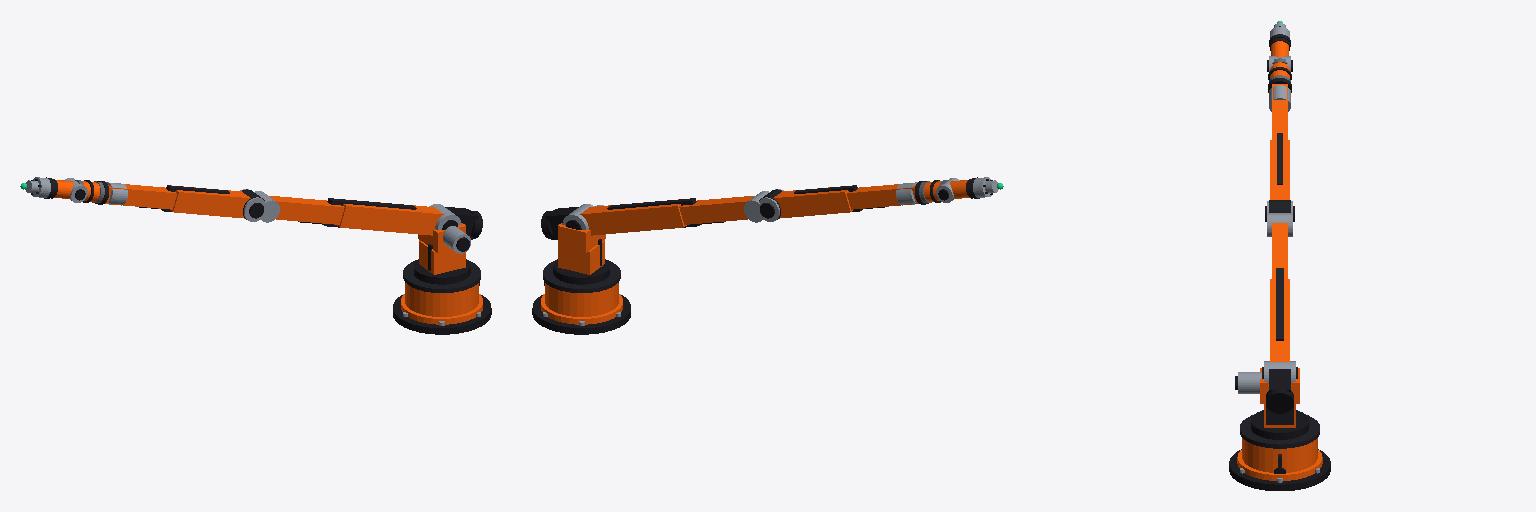
robot.urdf — kuka_kr210_r2700:
<?xml version="1.0" encoding="utf-8"?>
<robot name="kuka_kr210_r2700">
  <!-- KUKA KR 210 R2700-2 — procedurally generated by orolp.robot_library.urdf_builder (payload 210 kg, reach 2701 mm, 6 DOF, repeatability ±0.05 mm). Appearance: 60 primitives in 'industrial' style (primary/accent/metal/dark 4-role palette). No vendor CAD assets. Parameters verified=True. -->
  <link name="base_link">
    <visual>
      <origin xyz="0 0 0.019447" rpy="0 0 0"/>
      <geometry>
        <cylinder radius="0.264342" length="0.038894"/>
      </geometry>
      <material name="base_link_mat_0">
        <color rgba="0.136 0.136 0.1615 1"/>
      </material>
    </visual>
    <visual>
      <origin xyz="0 0 0.055911" rpy="0 0 0"/>
      <geometry>
        <cylinder radius="0.220942" length="0.034033"/>
      </geometry>
      <material name="base_link_mat_1">
        <color rgba="1 0.416 0.075 1"/>
      </material>
    </visual>
    <visual>
      <origin xyz="0 0 0.148285" rpy="0 0 0"/>
      <geometry>
        <cylinder radius="0.19727" length="0.150716"/>
      </geometry>
      <material name="base_link_mat_2">
        <color rgba="1 0.416 0.075 1"/>
      </material>
    </visual>
    <visual>
      <origin xyz="0 0 0.230935" rpy="0 0 0"/>
      <geometry>
        <cylinder radius="0.209106" length="0.024309"/>
      </geometry>
      <material name="base_link_mat_3">
        <color rgba="0.16 0.16 0.19 1"/>
      </material>
    </visual>
    <visual>
      <origin xyz="0.177543 0 0.150716" rpy="0 0 0"/>
      <geometry>
        <box size="0.10258 0.023672 0.063203"/>
      </geometry>
      <material name="base_link_mat_4">
        <color rgba="0.16 0.16 0.19 1"/>
      </material>
    </visual>
    <visual>
      <origin xyz="0.181488 0 0.072927" rpy="0 1.570796 0"/>
      <geometry>
        <cylinder radius="0.033536" length="0.059181"/>
      </geometry>
      <material name="base_link_mat_5">
        <color rgba="0.136 0.136 0.1615 1"/>
      </material>
    </visual>
    <visual>
      <origin xyz="0.224888 0 0.031602" rpy="0 0 0"/>
      <geometry>
        <cylinder radius="0.014795" length="0.05348"/>
      </geometry>
      <material name="base_link_mat_6">
        <color rgba="0.6 0.63 0.67 1"/>
      </material>
    </visual>
    <visual>
      <origin xyz="0.112444 0.194759 0.031602" rpy="0 0 0"/>
      <geometry>
        <cylinder radius="0.014795" length="0.05348"/>
      </geometry>
      <material name="base_link_mat_7">
        <color rgba="0.6 0.63 0.67 1"/>
      </material>
    </visual>
    <visual>
      <origin xyz="-0.112444 0.194759 0.031602" rpy="0 0 0"/>
      <geometry>
        <cylinder radius="0.014795" length="0.05348"/>
      </geometry>
      <material name="base_link_mat_8">
        <color rgba="0.6 0.63 0.67 1"/>
      </material>
    </visual>
    <visual>
      <origin xyz="-0.224888 0 0.031602" rpy="0 0 0"/>
      <geometry>
        <cylinder radius="0.014795" length="0.05348"/>
      </geometry>
      <material name="base_link_mat_9">
        <color rgba="0.6 0.63 0.67 1"/>
      </material>
    </visual>
    <visual>
      <origin xyz="-0.112444 -0.194759 0.031602" rpy="0 0 0"/>
      <geometry>
        <cylinder radius="0.014795" length="0.05348"/>
      </geometry>
      <material name="base_link_mat_10">
        <color rgba="0.6 0.63 0.67 1"/>
      </material>
    </visual>
    <visual>
      <origin xyz="0.112444 -0.194759 0.031602" rpy="0 0 0"/>
      <geometry>
        <cylinder radius="0.014795" length="0.05348"/>
      </geometry>
      <material name="base_link_mat_11">
        <color rgba="0.6 0.63 0.67 1"/>
      </material>
    </visual>
    <collision>
      <origin xyz="0 0 0.121545" rpy="0 0 0"/>
      <geometry>
        <cylinder radius="0.19727" length="0.24309"/>
      </geometry>
    </collision>
  </link>
  <joint name="joint_1" type="revolute">
    <parent link="base_link"/>
    <child link="link_1"/>
    <origin xyz="0 0 0.24309" rpy="0 0 0"/>
    <axis xyz="0 0 1"/>
    <limit lower="-3.228859" upper="3.228859" effort="1300" velocity="2.094395"/>
  </joint>
  <link name="link_1">
    <visual>
      <origin xyz="0 0 0.020363" rpy="0 0 0"/>
      <geometry>
        <cylinder radius="0.152725" length="0.040727"/>
      </geometry>
      <material name="link_1_mat_0">
        <color rgba="0.136 0.136 0.1615 1"/>
      </material>
    </visual>
    <visual>
      <origin xyz="0 0 0.109062" rpy="0 0 0"/>
      <geometry>
        <box size="0.193452 0.165452 0.136671"/>
      </geometry>
      <material name="link_1_mat_1">
        <color rgba="1 0.416 0.075 1"/>
      </material>
    </visual>
    <visual>
      <origin xyz="0 0 0.227906" rpy="0 0 0"/>
      <geometry>
        <box size="0.170543 0.142544 0.101017"/>
      </geometry>
      <material name="link_1_mat_2">
        <color rgba="1 0.416 0.075 1"/>
      </material>
    </visual>
    <visual>
      <origin xyz="0 0.083999 0.237688" rpy="0 0 0"/>
      <geometry>
        <box size="0.178179 0.043272 0.118844"/>
      </geometry>
      <material name="link_1_mat_3">
        <color rgba="1 0.416 0.075 1"/>
      </material>
    </visual>
    <visual>
      <origin xyz="0 -0.083999 0.237688" rpy="0 0 0"/>
      <geometry>
        <box size="0.178179 0.043272 0.118844"/>
      </geometry>
      <material name="link_1_mat_4">
        <color rgba="1 0.416 0.075 1"/>
      </material>
    </visual>
    <visual>
      <origin xyz="0 -0.15018 0.255515" rpy="1.570796 0 0"/>
      <geometry>
        <cylinder radius="0.055999" length="0.133635"/>
      </geometry>
      <material name="link_1_mat_5">
        <color rgba="0.6 0.63 0.67 1"/>
      </material>
    </visual>
    <visual>
      <origin xyz="0 -0.223997 0.255515" rpy="1.570796 0 0"/>
      <geometry>
        <cylinder radius="0.038181" length="0.020363"/>
      </geometry>
      <material name="link_1_mat_6">
        <color rgba="0.136 0.136 0.1615 1"/>
      </material>
    </visual>
    <visual>
      <origin xyz="-0.08909 -0.035636 0.124786" rpy="0 0 0"/>
      <geometry>
        <cylinder radius="0.014" length="0.148555"/>
      </geometry>
      <material name="link_1_mat_7">
        <color rgba="0.136 0.136 0.1615 1"/>
      </material>
    </visual>
    <visual>
      <origin xyz="0.091635 0 0.124786" rpy="0 0 0"/>
      <geometry>
        <box size="0.012727 0.147634 0.130728"/>
      </geometry>
      <material name="link_1_mat_8">
        <color rgba="0.16 0.16 0.19 1"/>
      </material>
    </visual>
    <collision>
      <origin xyz="0 0 0.148555" rpy="0 0 0"/>
      <geometry>
        <cylinder radius="0.152725" length="0.29711"/>
      </geometry>
    </collision>
  </link>
  <joint name="joint_2" type="revolute">
    <parent link="link_1"/>
    <child link="link_2"/>
    <origin xyz="0 0 0.29711" rpy="0 0 0"/>
    <axis xyz="0 1 0"/>
    <limit lower="-2.443461" upper="-0.087266" effort="1300" velocity="2.007129"/>
  </joint>
  <link name="link_2">
    <visual>
      <origin xyz="0 0 0.335464" rpy="0 0 0"/>
      <geometry>
        <box size="0.124726 0.106908 0.670928"/>
      </geometry>
      <material name="link_2_mat_0">
        <color rgba="1 0.416 0.075 1"/>
      </material>
    </visual>
    <visual>
      <origin xyz="0 0 0.931845" rpy="0 0 0"/>
      <geometry>
        <box size="0.101817 0.086544 0.62123"/>
      </geometry>
      <material name="link_2_mat_1">
        <color rgba="1 0.416 0.075 1"/>
      </material>
    </visual>
    <visual>
      <origin xyz="0 0 0.472135" rpy="0 0 0"/>
      <geometry>
        <box size="0.147634 0.038181 0.546682"/>
      </geometry>
      <material name="link_2_mat_2">
        <color rgba="0.16 0.16 0.19 1"/>
      </material>
    </visual>
    <visual>
      <origin xyz="0 0 0" rpy="1.570796 0 0"/>
      <geometry>
        <cylinder radius="0.073817" length="0.162907"/>
      </geometry>
      <material name="link_2_mat_3">
        <color rgba="0.6 0.63 0.67 1"/>
      </material>
    </visual>
    <visual>
      <origin xyz="0 0.08909 0" rpy="1.570796 0 0"/>
      <geometry>
        <cylinder radius="0.045818" length="0.012727"/>
      </geometry>
      <material name="link_2_mat_4">
        <color rgba="0.136 0.136 0.1615 1"/>
      </material>
    </visual>
    <visual>
      <origin xyz="0 -0.08909 0" rpy="1.570796 0 0"/>
      <geometry>
        <cylinder radius="0.045818" length="0.012727"/>
      </geometry>
      <material name="link_2_mat_5">
        <color rgba="0.136 0.136 0.1615 1"/>
      </material>
    </visual>
    <visual>
      <origin xyz="0 0 -0.089457" rpy="0 0 0"/>
      <geometry>
        <box size="0.137453 0.114544 0.186369"/>
      </geometry>
      <material name="link_2_mat_6">
        <color rgba="0.136 0.136 0.1615 1"/>
      </material>
    </visual>
    <visual>
      <origin xyz="0 0 -0.188854" rpy="0 0 0"/>
      <geometry>
        <cylinder radius="0.073817" length="0.049698"/>
      </geometry>
      <material name="link_2_mat_7">
        <color rgba="0.136 0.136 0.1615 1"/>
      </material>
    </visual>
    <visual>
      <origin xyz="0 0 1.155488" rpy="1.570796 0 0"/>
      <geometry>
        <cylinder radius="0.063635" length="0.139998"/>
      </geometry>
      <material name="link_2_mat_8">
        <color rgba="0.6 0.63 0.67 1"/>
      </material>
    </visual>
    <visual>
      <origin xyz="0 0 1.24246" rpy="1.570796 0 0"/>
      <geometry>
        <cylinder radius="0.071272" length="0.109453"/>
      </geometry>
      <material name="link_2_mat_9">
        <color rgba="0.16 0.16 0.19 1"/>
      </material>
    </visual>
    <visual>
      <origin xyz="-0.058545 0 0.521833" rpy="0 0 0"/>
      <geometry>
        <cylinder radius="0.011454" length="0.770325"/>
      </geometry>
      <material name="link_2_mat_10">
        <color rgba="0.136 0.136 0.1615 1"/>
      </material>
    </visual>
    <collision>
      <origin xyz="0 0 0.62123" rpy="0 0 0"/>
      <geometry>
        <box size="0.127271 0.104362 1.24246"/>
      </geometry>
    </collision>
  </link>
  <joint name="joint_3" type="revolute">
    <parent link="link_2"/>
    <child link="link_3"/>
    <origin xyz="0 0 1.24246" rpy="0 0 0"/>
    <axis xyz="0 1 0"/>
    <limit lower="-2.094395" upper="2.932153" effort="1300" velocity="1.954769"/>
  </joint>
  <link name="link_3">
    <visual>
      <origin xyz="0 0 0.252814" rpy="0 0 0"/>
      <geometry>
        <box size="0.117089 0.099271 0.505627"/>
      </geometry>
      <material name="link_3_mat_0">
        <color rgba="1 0.416 0.075 1"/>
      </material>
    </visual>
    <visual>
      <origin xyz="0 0 0.719546" rpy="0 0 0"/>
      <geometry>
        <box size="0.094181 0.078908 0.505627"/>
      </geometry>
      <material name="link_3_mat_1">
        <color rgba="1 0.416 0.075 1"/>
      </material>
    </visual>
    <visual>
      <origin xyz="0 0 0" rpy="1.570796 0 0"/>
      <geometry>
        <cylinder radius="0.068726" length="0.134907"/>
      </geometry>
      <material name="link_3_mat_2">
        <color rgba="0.6 0.63 0.67 1"/>
      </material>
    </visual>
    <visual>
      <origin xyz="0 0.073817 0" rpy="1.570796 0 0"/>
      <geometry>
        <cylinder radius="0.043272" length="0.012727"/>
      </geometry>
      <material name="link_3_mat_3">
        <color rgba="0.136 0.136 0.1615 1"/>
      </material>
    </visual>
    <visual>
      <origin xyz="0 -0.073817 0" rpy="1.570796 0 0"/>
      <geometry>
        <cylinder radius="0.043272" length="0.012727"/>
      </geometry>
      <material name="link_3_mat_4">
        <color rgba="0.136 0.136 0.1615 1"/>
      </material>
    </visual>
    <visual>
      <origin xyz="0 0 0.35005" rpy="0 0 0"/>
      <geometry>
        <box size="0.137453 0.035636 0.388944"/>
      </geometry>
      <material name="link_3_mat_5">
        <color rgba="0.16 0.16 0.19 1"/>
      </material>
    </visual>
    <visual>
      <origin xyz="0 0 0.875124" rpy="0 0 0"/>
      <geometry>
        <cylinder radius="0.058545" length="0.099271"/>
      </geometry>
      <material name="link_3_mat_6">
        <color rgba="0.6 0.63 0.67 1"/>
      </material>
    </visual>
    <visual>
      <origin xyz="0 0 0.962636" rpy="0 0 0"/>
      <geometry>
        <cylinder radius="0.063635" length="0.025454"/>
      </geometry>
      <material name="link_3_mat_7">
        <color rgba="0.16 0.16 0.19 1"/>
      </material>
    </visual>
    <visual>
      <origin xyz="-0.053454 0 0.427838" rpy="0 0 0"/>
      <geometry>
        <cylinder radius="0.010182" length="0.544522"/>
      </geometry>
      <material name="link_3_mat_8">
        <color rgba="0.136 0.136 0.1615 1"/>
      </material>
    </visual>
    <collision>
      <origin xyz="0 0 0.48618" rpy="0 0 0"/>
      <geometry>
        <box size="0.119635 0.0981 0.97236"/>
      </geometry>
    </collision>
  </link>
  <joint name="joint_4" type="revolute">
    <parent link="link_3"/>
    <child link="link_4"/>
    <origin xyz="0 0 0.97236" rpy="0 0 0"/>
    <axis xyz="0 0 1"/>
    <limit lower="-6.108652" upper="6.108652" effort="1300" velocity="3.124139"/>
  </joint>
  <link name="link_4">
    <visual>
      <origin xyz="0 0 0.08103" rpy="0 0 0"/>
      <geometry>
        <cylinder radius="0.053454" length="0.152336"/>
      </geometry>
      <material name="link_4_mat_0">
        <color rgba="1 0.416 0.075 1"/>
      </material>
    </visual>
    <visual>
      <origin xyz="0 0 0.016206" rpy="0 0 0"/>
      <geometry>
        <cylinder radius="0.058545" length="0.02593"/>
      </geometry>
      <material name="link_4_mat_1">
        <color rgba="0.432 0.4536 0.4824 1"/>
      </material>
    </visual>
    <visual>
      <origin xyz="0 0 0.145854" rpy="0 0 0"/>
      <geometry>
        <cylinder radius="0.058545" length="0.02593"/>
      </geometry>
      <material name="link_4_mat_2">
        <color rgba="0.432 0.4536 0.4824 1"/>
      </material>
    </visual>
    <visual>
      <origin xyz="0 0 0.08103" rpy="0 0 0"/>
      <geometry>
        <cylinder radius="0.06109" length="0.016206"/>
      </geometry>
      <material name="link_4_mat_3">
        <color rgba="0.16 0.16 0.19 1"/>
      </material>
    </visual>
    <collision>
      <origin xyz="0 0 0.08103" rpy="0 0 0"/>
      <geometry>
        <cylinder radius="0.055999" length="0.16206"/>
      </geometry>
    </collision>
  </link>
  <joint name="joint_5" type="revolute">
    <parent link="link_4"/>
    <child link="link_5"/>
    <origin xyz="0 0 0.16206" rpy="0 0 0"/>
    <axis xyz="0 1 0"/>
    <limit lower="-2.181662" upper="2.181662" effort="1300" velocity="3.001966"/>
  </joint>
  <link name="link_5">
    <visual>
      <origin xyz="0 0 0" rpy="1.570796 0 0"/>
      <geometry>
        <cylinder radius="0.050908" length="0.117089"/>
      </geometry>
      <material name="link_5_mat_0">
        <color rgba="0.6 0.63 0.67 1"/>
      </material>
    </visual>
    <visual>
      <origin xyz="0 0 0.072927" rpy="0 0 0"/>
      <geometry>
        <cylinder radius="0.048363" length="0.139372"/>
      </geometry>
      <material name="link_5_mat_1">
        <color rgba="1 0.416 0.075 1"/>
      </material>
    </visual>
    <visual>
      <origin xyz="0 0 0.152336" rpy="0 0 0"/>
      <geometry>
        <cylinder radius="0.053454" length="0.02593"/>
      </geometry>
      <material name="link_5_mat_2">
        <color rgba="0.16 0.16 0.19 1"/>
      </material>
    </visual>
    <visual>
      <origin xyz="0 0.063635 0" rpy="1.570796 0 0"/>
      <geometry>
        <cylinder radius="0.030545" length="0.012727"/>
      </geometry>
      <material name="link_5_mat_3">
        <color rgba="0.136 0.136 0.1615 1"/>
      </material>
    </visual>
    <visual>
      <origin xyz="0 -0.063635 0" rpy="1.570796 0 0"/>
      <geometry>
        <cylinder radius="0.030545" length="0.012727"/>
      </geometry>
      <material name="link_5_mat_4">
        <color rgba="0.136 0.136 0.1615 1"/>
      </material>
    </visual>
    <collision>
      <origin xyz="0 0 0.08103" rpy="0 0 0"/>
      <geometry>
        <box size="0.10818 0.088708 0.16206"/>
      </geometry>
    </collision>
  </link>
  <joint name="joint_6" type="revolute">
    <parent link="link_5"/>
    <child link="tool0"/>
    <origin xyz="0 0 0.16206" rpy="0 0 0"/>
    <axis xyz="0 0 1"/>
    <limit lower="-6.108652" upper="6.108652" effort="1300" velocity="3.839724"/>
  </joint>
  <link name="tool0">
    <visual>
      <origin xyz="0 0 0.042136" rpy="0 0 0"/>
      <geometry>
        <cylinder radius="0.053454" length="0.084271"/>
      </geometry>
      <material name="tool0_mat_0">
        <color rgba="0.6 0.63 0.67 1"/>
      </material>
    </visual>
    <visual>
      <origin xyz="0 0 0.10858" rpy="0 0 0"/>
      <geometry>
        <cylinder radius="0.033141" length="0.048618"/>
      </geometry>
      <material name="tool0_mat_1">
        <color rgba="0.6 0.63 0.67 1"/>
      </material>
    </visual>
    <visual>
      <origin xyz="0 0 0.011344" rpy="0 0 0"/>
      <geometry>
        <cylinder radius="0.056661" length="0.022688"/>
      </geometry>
      <material name="tool0_mat_2">
        <color rgba="0.16 0.16 0.19 1"/>
      </material>
    </visual>
    <visual>
      <origin xyz="0.041694 0 0.08103" rpy="0 0 0"/>
      <geometry>
        <cylinder radius="0.004811" length="0.035653"/>
      </geometry>
      <material name="tool0_mat_3">
        <color rgba="0.136 0.136 0.1615 1"/>
      </material>
    </visual>
    <visual>
      <origin xyz="0.020847 0.036108 0.08103" rpy="0 0 0"/>
      <geometry>
        <cylinder radius="0.004811" length="0.035653"/>
      </geometry>
      <material name="tool0_mat_4">
        <color rgba="0.136 0.136 0.1615 1"/>
      </material>
    </visual>
    <visual>
      <origin xyz="-0.020847 0.036108 0.08103" rpy="0 0 0"/>
      <geometry>
        <cylinder radius="0.004811" length="0.035653"/>
      </geometry>
      <material name="tool0_mat_5">
        <color rgba="0.136 0.136 0.1615 1"/>
      </material>
    </visual>
    <visual>
      <origin xyz="-0.041694 0 0.08103" rpy="0 0 0"/>
      <geometry>
        <cylinder radius="0.004811" length="0.035653"/>
      </geometry>
      <material name="tool0_mat_6">
        <color rgba="0.136 0.136 0.1615 1"/>
      </material>
    </visual>
    <visual>
      <origin xyz="-0.020847 -0.036108 0.08103" rpy="0 0 0"/>
      <geometry>
        <cylinder radius="0.004811" length="0.035653"/>
      </geometry>
      <material name="tool0_mat_7">
        <color rgba="0.136 0.136 0.1615 1"/>
      </material>
    </visual>
    <visual>
      <origin xyz="0.020847 -0.036108 0.08103" rpy="0 0 0"/>
      <geometry>
        <cylinder radius="0.004811" length="0.035653"/>
      </geometry>
      <material name="tool0_mat_8">
        <color rgba="0.136 0.136 0.1615 1"/>
      </material>
    </visual>
    <collision>
      <origin xyz="0 0 0.08103" rpy="0 0 0"/>
      <geometry>
        <cylinder radius="0.053454" length="0.16206"/>
      </geometry>
    </collision>
  </link>
  <link name="tcp">
    <visual>
      <origin xyz="0 0 0" rpy="0 0 0"/>
      <geometry>
        <sphere radius="0.018174"/>
      </geometry>
      <material name="tcp_mat">
        <color rgba="0.15 0.85 0.55 1"/>
      </material>
    </visual>
  </link>
  <joint name="tcp_joint" type="fixed">
    <parent link="tool0"/>
    <child link="tcp"/>
    <origin xyz="0 0 0.16206" rpy="0 0 0"/>
  </joint>
</robot>

--- What the picture shows (computed from the rendered views, not written in the file) ---
The picture shows the robot from 3 angles, left to right: view 1: azimuth 30°, elevation 25°; view 2: azimuth 150°, elevation 25°; view 3: azimuth 270°, elevation 25°; orthographic projection.
Robot: kuka_kr210_r2700 — 8 links, 7 joints (6 revolute, 1 fixed); root link base_link; default pose: all joints at 0 but 1 set to mid-range because 0 is outside their limits (joint_2 = -1.27).
Links seen in each view (by area): view 1: link_2, base_link, link_3, link_1, link_5; view 2: link_2, base_link, link_3, link_1, link_5; view 3: base_link, link_2, link_3, link_1.
Link boxes in pixels (x1=…): link_2: x1=242, y1=189, x2=482, y2=239; base_link: x1=393, y1=260, x2=491, y2=334; link_3: x1=95, y1=181, x2=264, y2=221; link_1: x1=414, y1=223, x2=470, y2=284; link_5: x1=51, y1=178, x2=87, y2=202; link_2: x1=541, y1=189, x2=781, y2=239; base_link: x1=532, y1=260, x2=630, y2=334; link_3: x1=759, y1=181, x2=928, y2=221; link_1: x1=553, y1=205, x2=609, y2=284; link_5: x1=936, y1=178, x2=972, y2=202; base_link: x1=1229, y1=415, x2=1330, y2=490; link_2: x1=1262, y1=200, x2=1297, y2=413; link_3: x1=1265, y1=78, x2=1294, y2=221; link_1: x1=1235, y1=368, x2=1308, y2=439.
Bounding box of the posed robot: 2.86 × 0.5287 × 1.38 m (x, y, z).
Geometry: primitives only (box / cylinder / sphere), no mesh files.
